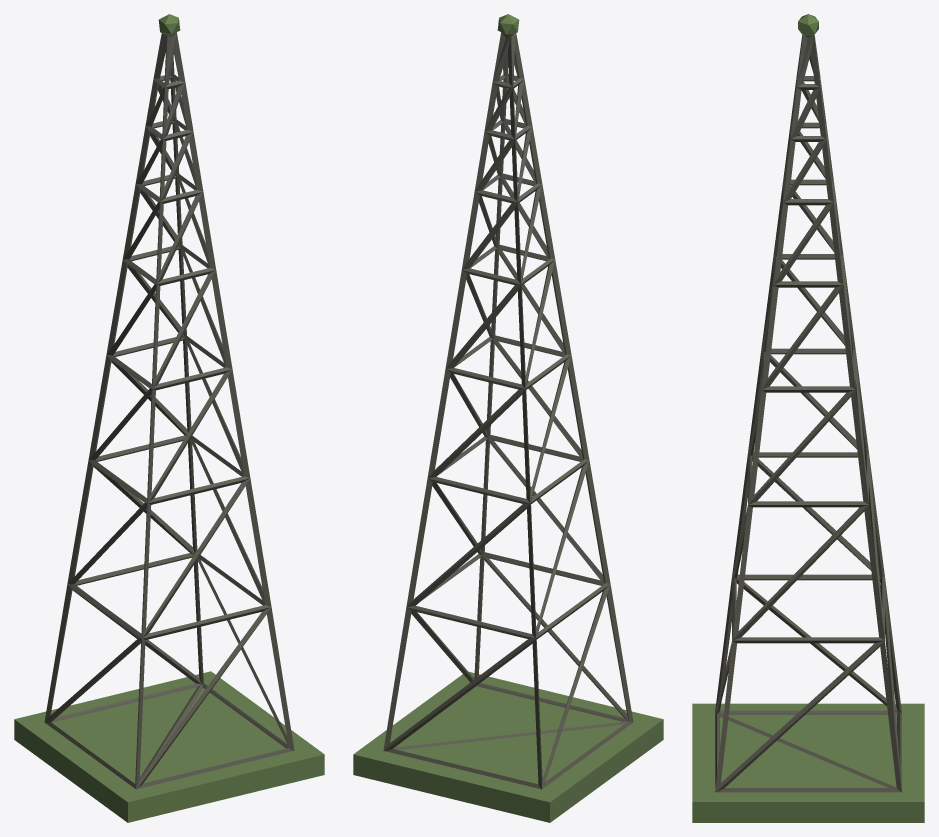
Rendered from HousePart_01.fbx.
3 renders of one model, left to right at view 1: azimuth 30°, elevation 25°; view 2: azimuth 150°, elevation 25°; view 3: azimuth 270°, elevation 25°, orthographic. The views are drawn at different scales.
Parts seen in each view (by area): view 1: HousePart_01; view 2: HousePart_01; view 3: HousePart_01.
Part boxes in pixels (x1=…): HousePart_01: x1=14, y1=14, x2=324, y2=822; HousePart_01: x1=353, y1=14, x2=663, y2=822; HousePart_01: x1=692, y1=14, x2=924, y2=822.
Bounding box in the file's own units: 1.27 × 4.57 × 1.27.
